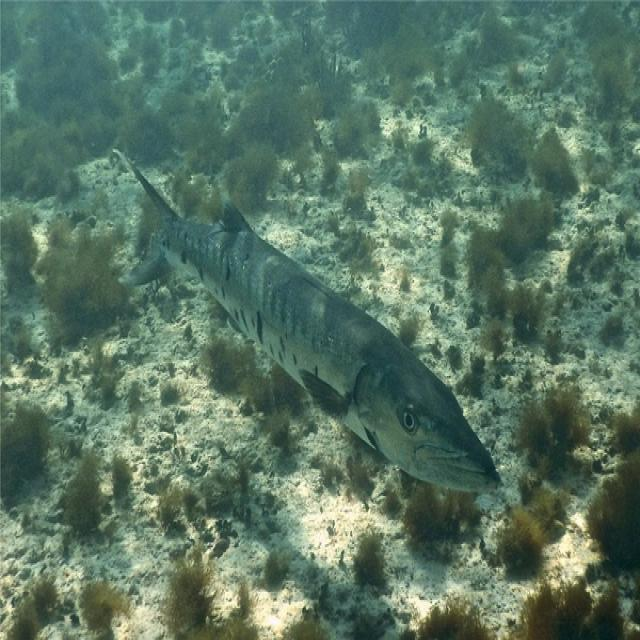Barracuda: (111, 145, 508, 498)
